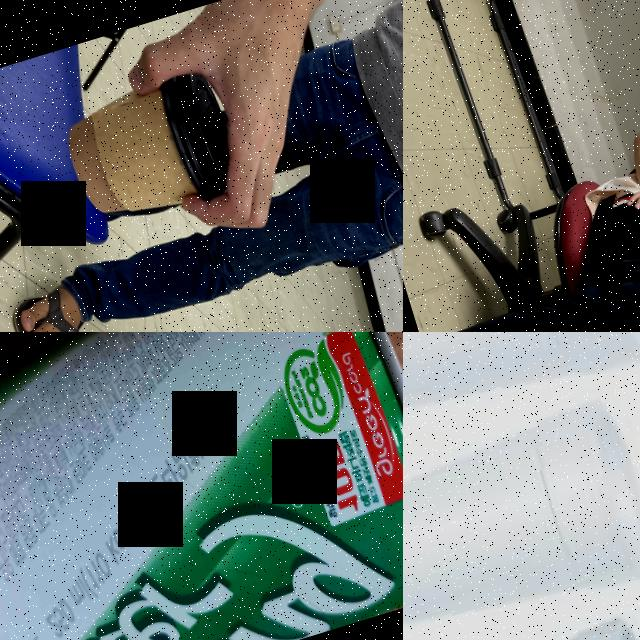can: (0, 332, 403, 640)
cup: (403, 389, 640, 640), (56, 65, 244, 235), (403, 332, 640, 464)
